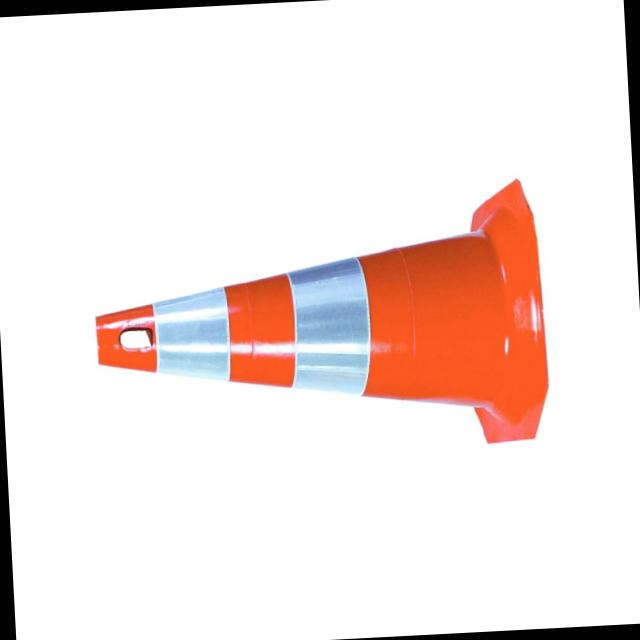cone: (59, 79, 581, 529)
